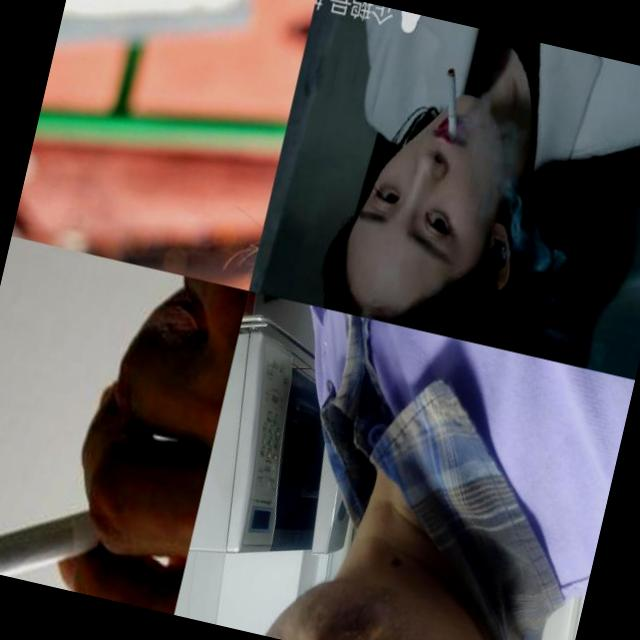smoke: (0, 461, 142, 602), (428, 63, 474, 144)
